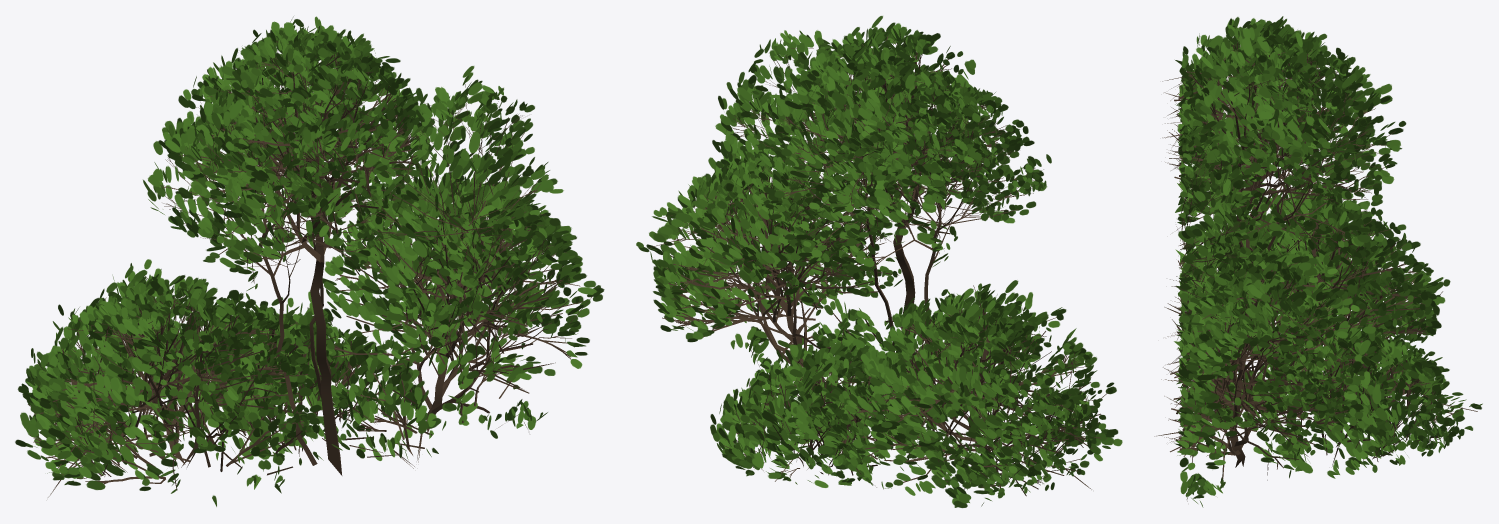
3 renders of one model, left to right at view 1: azimuth 30°, elevation 25°; view 2: azimuth 150°, elevation 25°; view 3: azimuth 270°, elevation 25°, orthographic. The views are drawn at different scales.
Parts seen in each view (by area): view 1: oak 01.001_trunk_Mat.001_0.393; view 2: oak 01.001_trunk_Mat.001_0.393; view 3: oak 01.001_trunk_Mat.001_0.393.
Part boxes in pixels (bbox=[...]): oak 01.001_trunk_Mat.001_0.393: bbox=[15, 16, 604, 506]; oak 01.001_trunk_Mat.001_0.393: bbox=[636, 16, 1122, 507]; oak 01.001_trunk_Mat.001_0.393: bbox=[1154, 16, 1482, 507].
Bounding box in the file's own units: 4.82 × 3.94 × 2.88.
Materials: 2 (1 with a texture image).
